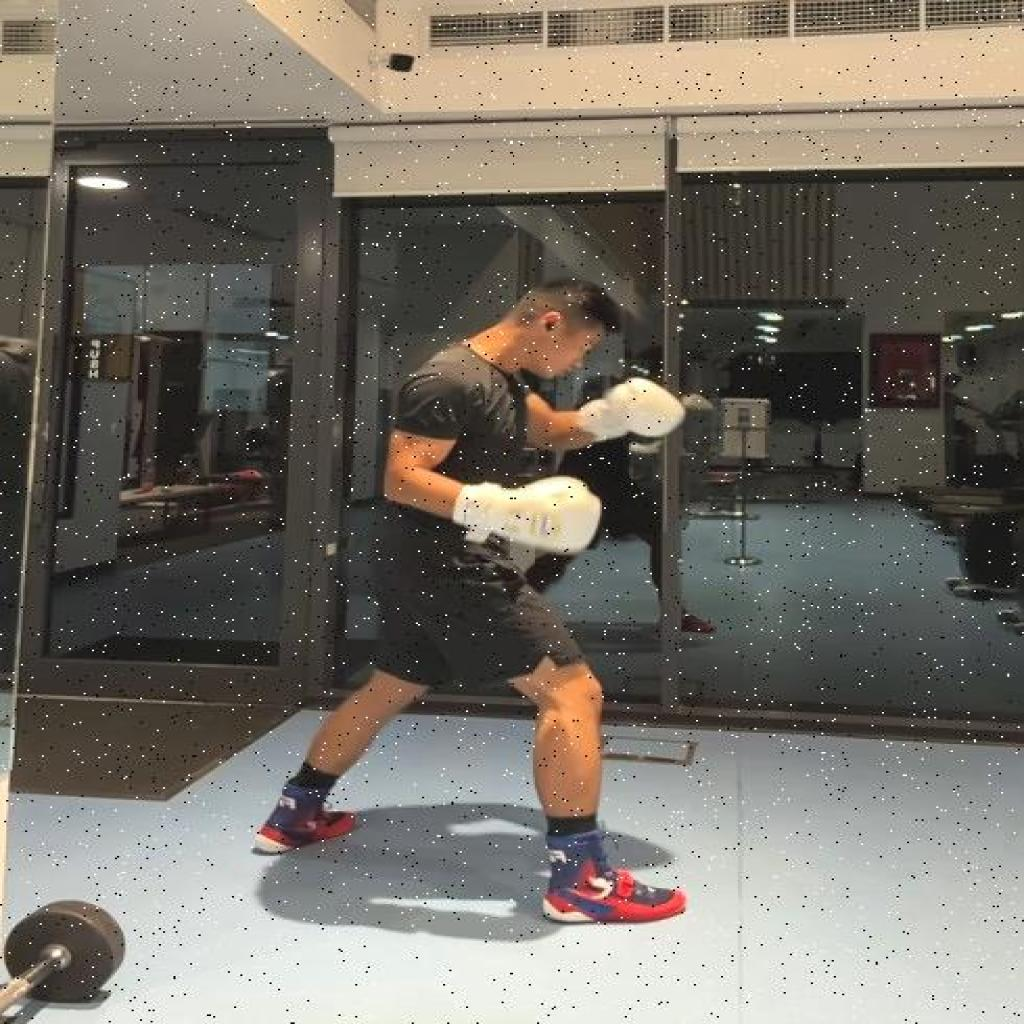cross: (261, 274, 692, 928)
